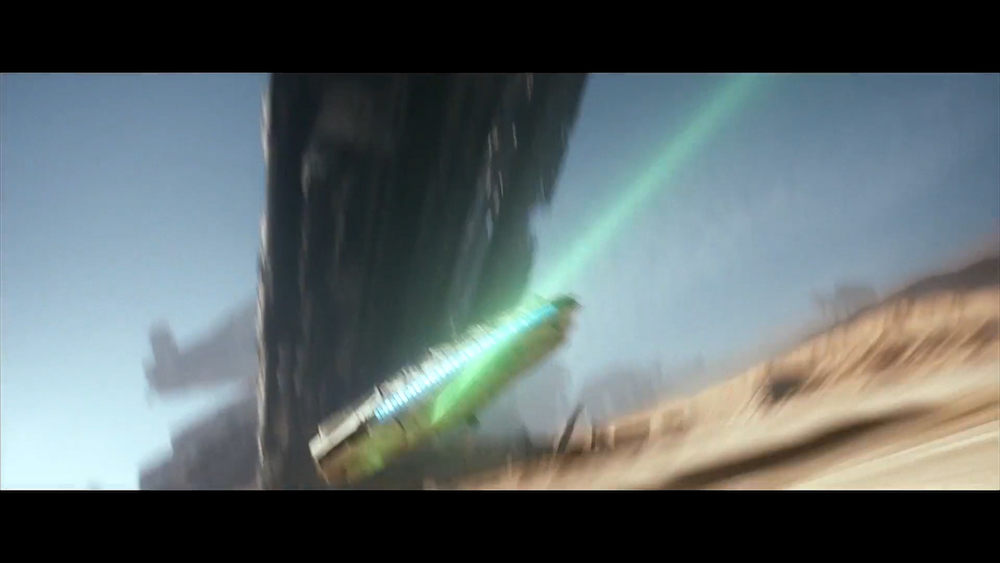Millennium Falcon: (310, 290, 583, 491)
